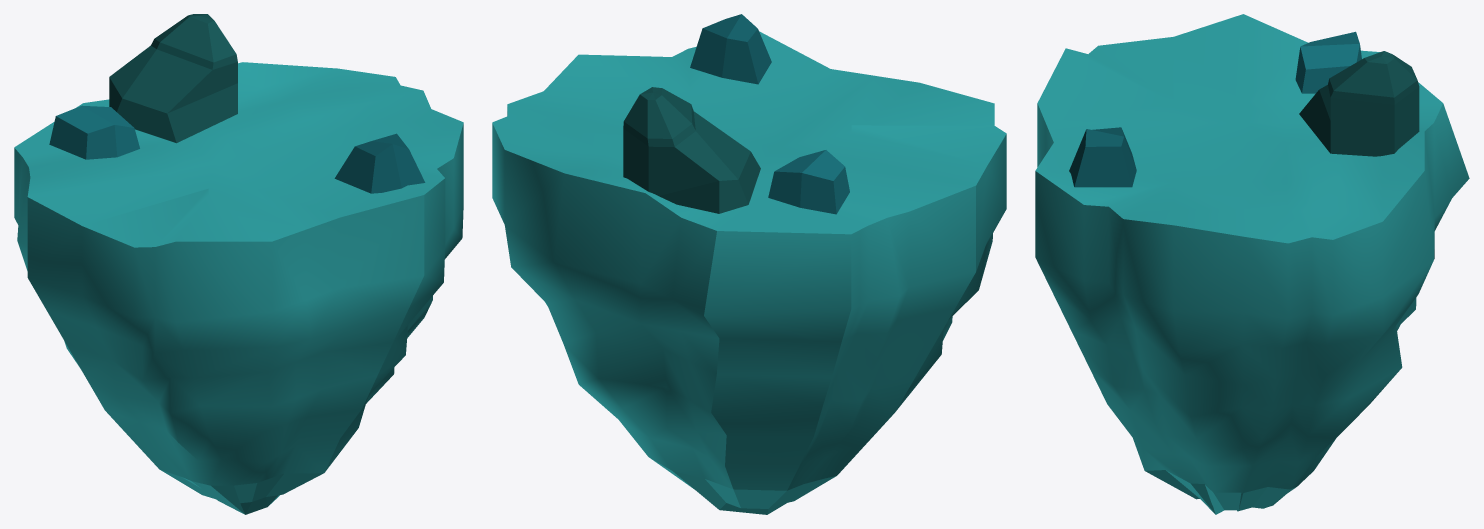
Rendered from anti.fbx.
3 views of the same model, side by side, from view 1: azimuth 30°, elevation 25°; view 2: azimuth 150°, elevation 25°; view 3: azimuth 270°, elevation 25° (orthographic). The views are drawn at different scales.
Visible parts, largest first — view 1: Plane001, Plane002, Plane004, Plane003; view 2: Plane001, Plane002, Plane003, Plane004; view 3: Plane001, Plane002, Plane003, Plane004.
Boxes of the visible parts, x1=… form: Plane001: x1=14, y1=62, x2=463, y2=514; Plane002: x1=109, y1=14, x2=237, y2=143; Plane004: x1=49, y1=105, x2=139, y2=159; Plane003: x1=334, y1=133, x2=425, y2=193; Plane001: x1=492, y1=31, x2=1006, y2=514; Plane002: x1=623, y1=87, x2=760, y2=213; Plane003: x1=690, y1=14, x2=771, y2=84; Plane004: x1=768, y1=150, x2=849, y2=214; Plane001: x1=1035, y1=14, x2=1469, y2=514; Plane002: x1=1299, y1=51, x2=1419, y2=156; Plane003: x1=1069, y1=127, x2=1136, y2=187; Plane004: x1=1295, y1=31, x2=1361, y2=93.
Bounding box in the file's own units: 99.38 × 98.65 × 83.59.
